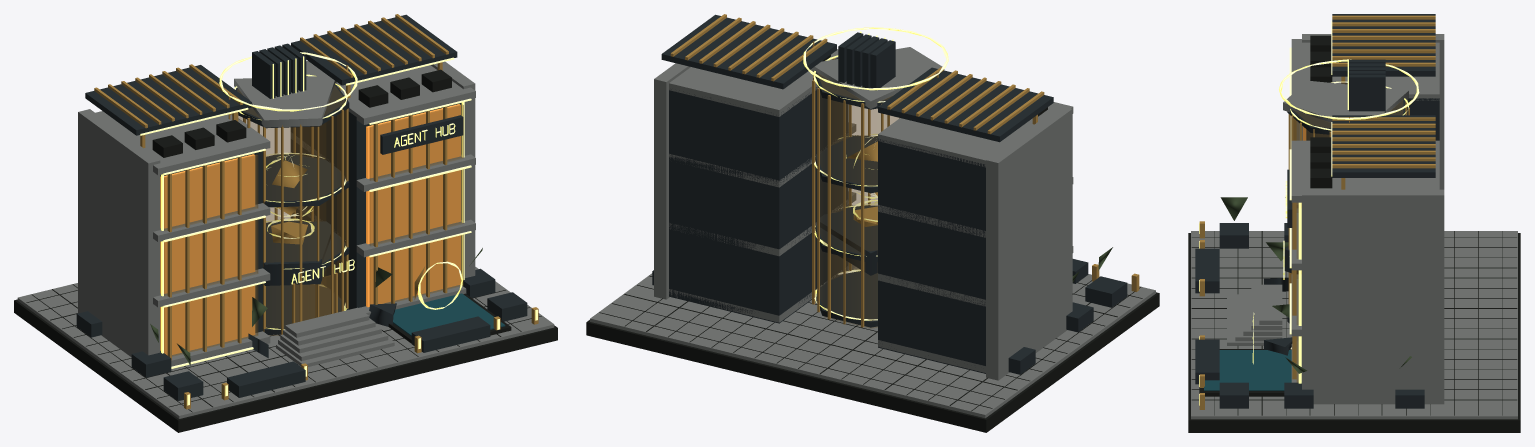
Rendered from agent_hub_lod1.glb.
3 views of the same model, side by side, from view 1: azimuth 30°, elevation 25°; view 2: azimuth 150°, elevation 25°; view 3: azimuth 270°, elevation 25° (orthographic). The views are drawn at different scales.
Parts seen in each view (by area): view 1: dark, glass, warm, Neon · PBR + Emissive; view 2: dark, glass, Neon · PBR + Emissive; view 3: dark, Neon · PBR + Emissive, glass.
Part boxes in pixels (x1=…): dark: x1=14, y1=14, x2=557, y2=432; glass: x1=164, y1=85, x2=463, y2=356; warm: x1=160, y1=104, x2=460, y2=355; Neon · PBR + Emissive: x1=140, y1=52, x2=537, y2=405; dark: x1=586, y1=14, x2=1159, y2=432; glass: x1=817, y1=73, x2=898, y2=328; Neon · PBR + Emissive: x1=803, y1=27, x2=948, y2=320; dark: x1=1188, y1=14, x2=1520, y2=432; Neon · PBR + Emissive: x1=1199, y1=20, x2=1419, y2=405; glass: x1=1290, y1=83, x2=1402, y2=382.
Size of the model in its own units: 12 by 8.11 by 8.99.
4 materials, 4 textured.
